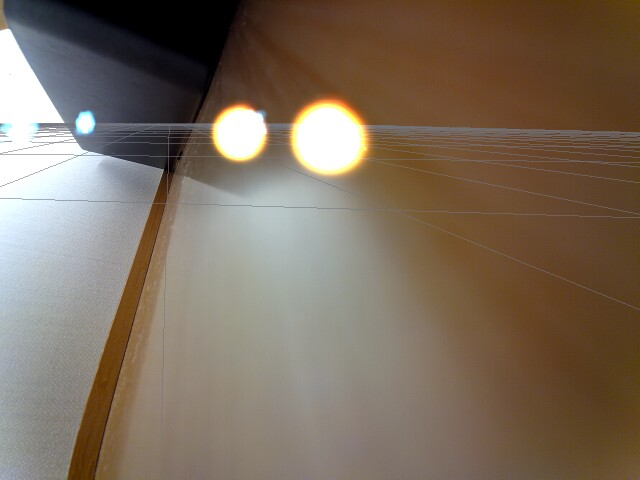firebig: (285, 92, 373, 180)
